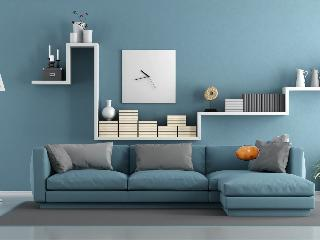potato: (235, 145, 259, 162)
